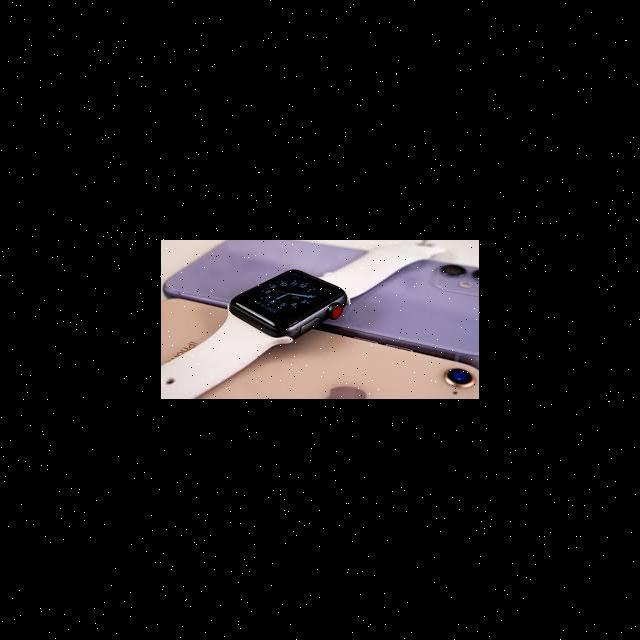watch: (205, 248, 365, 377)
